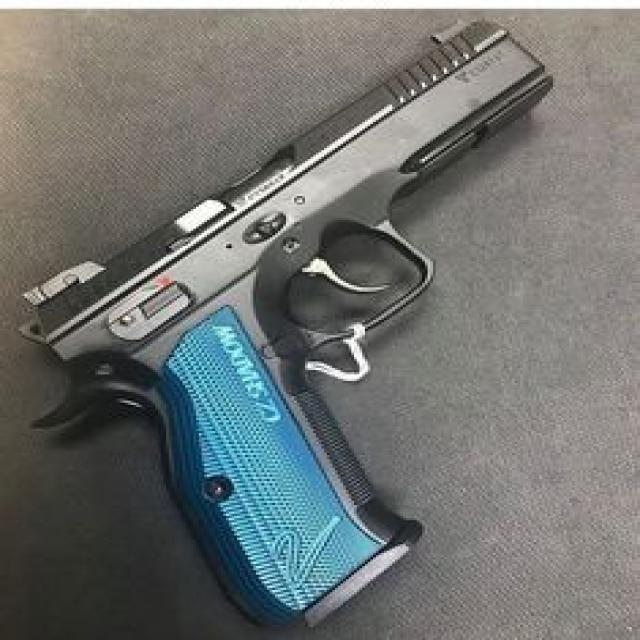semi automatic: (16, 3, 582, 623)
